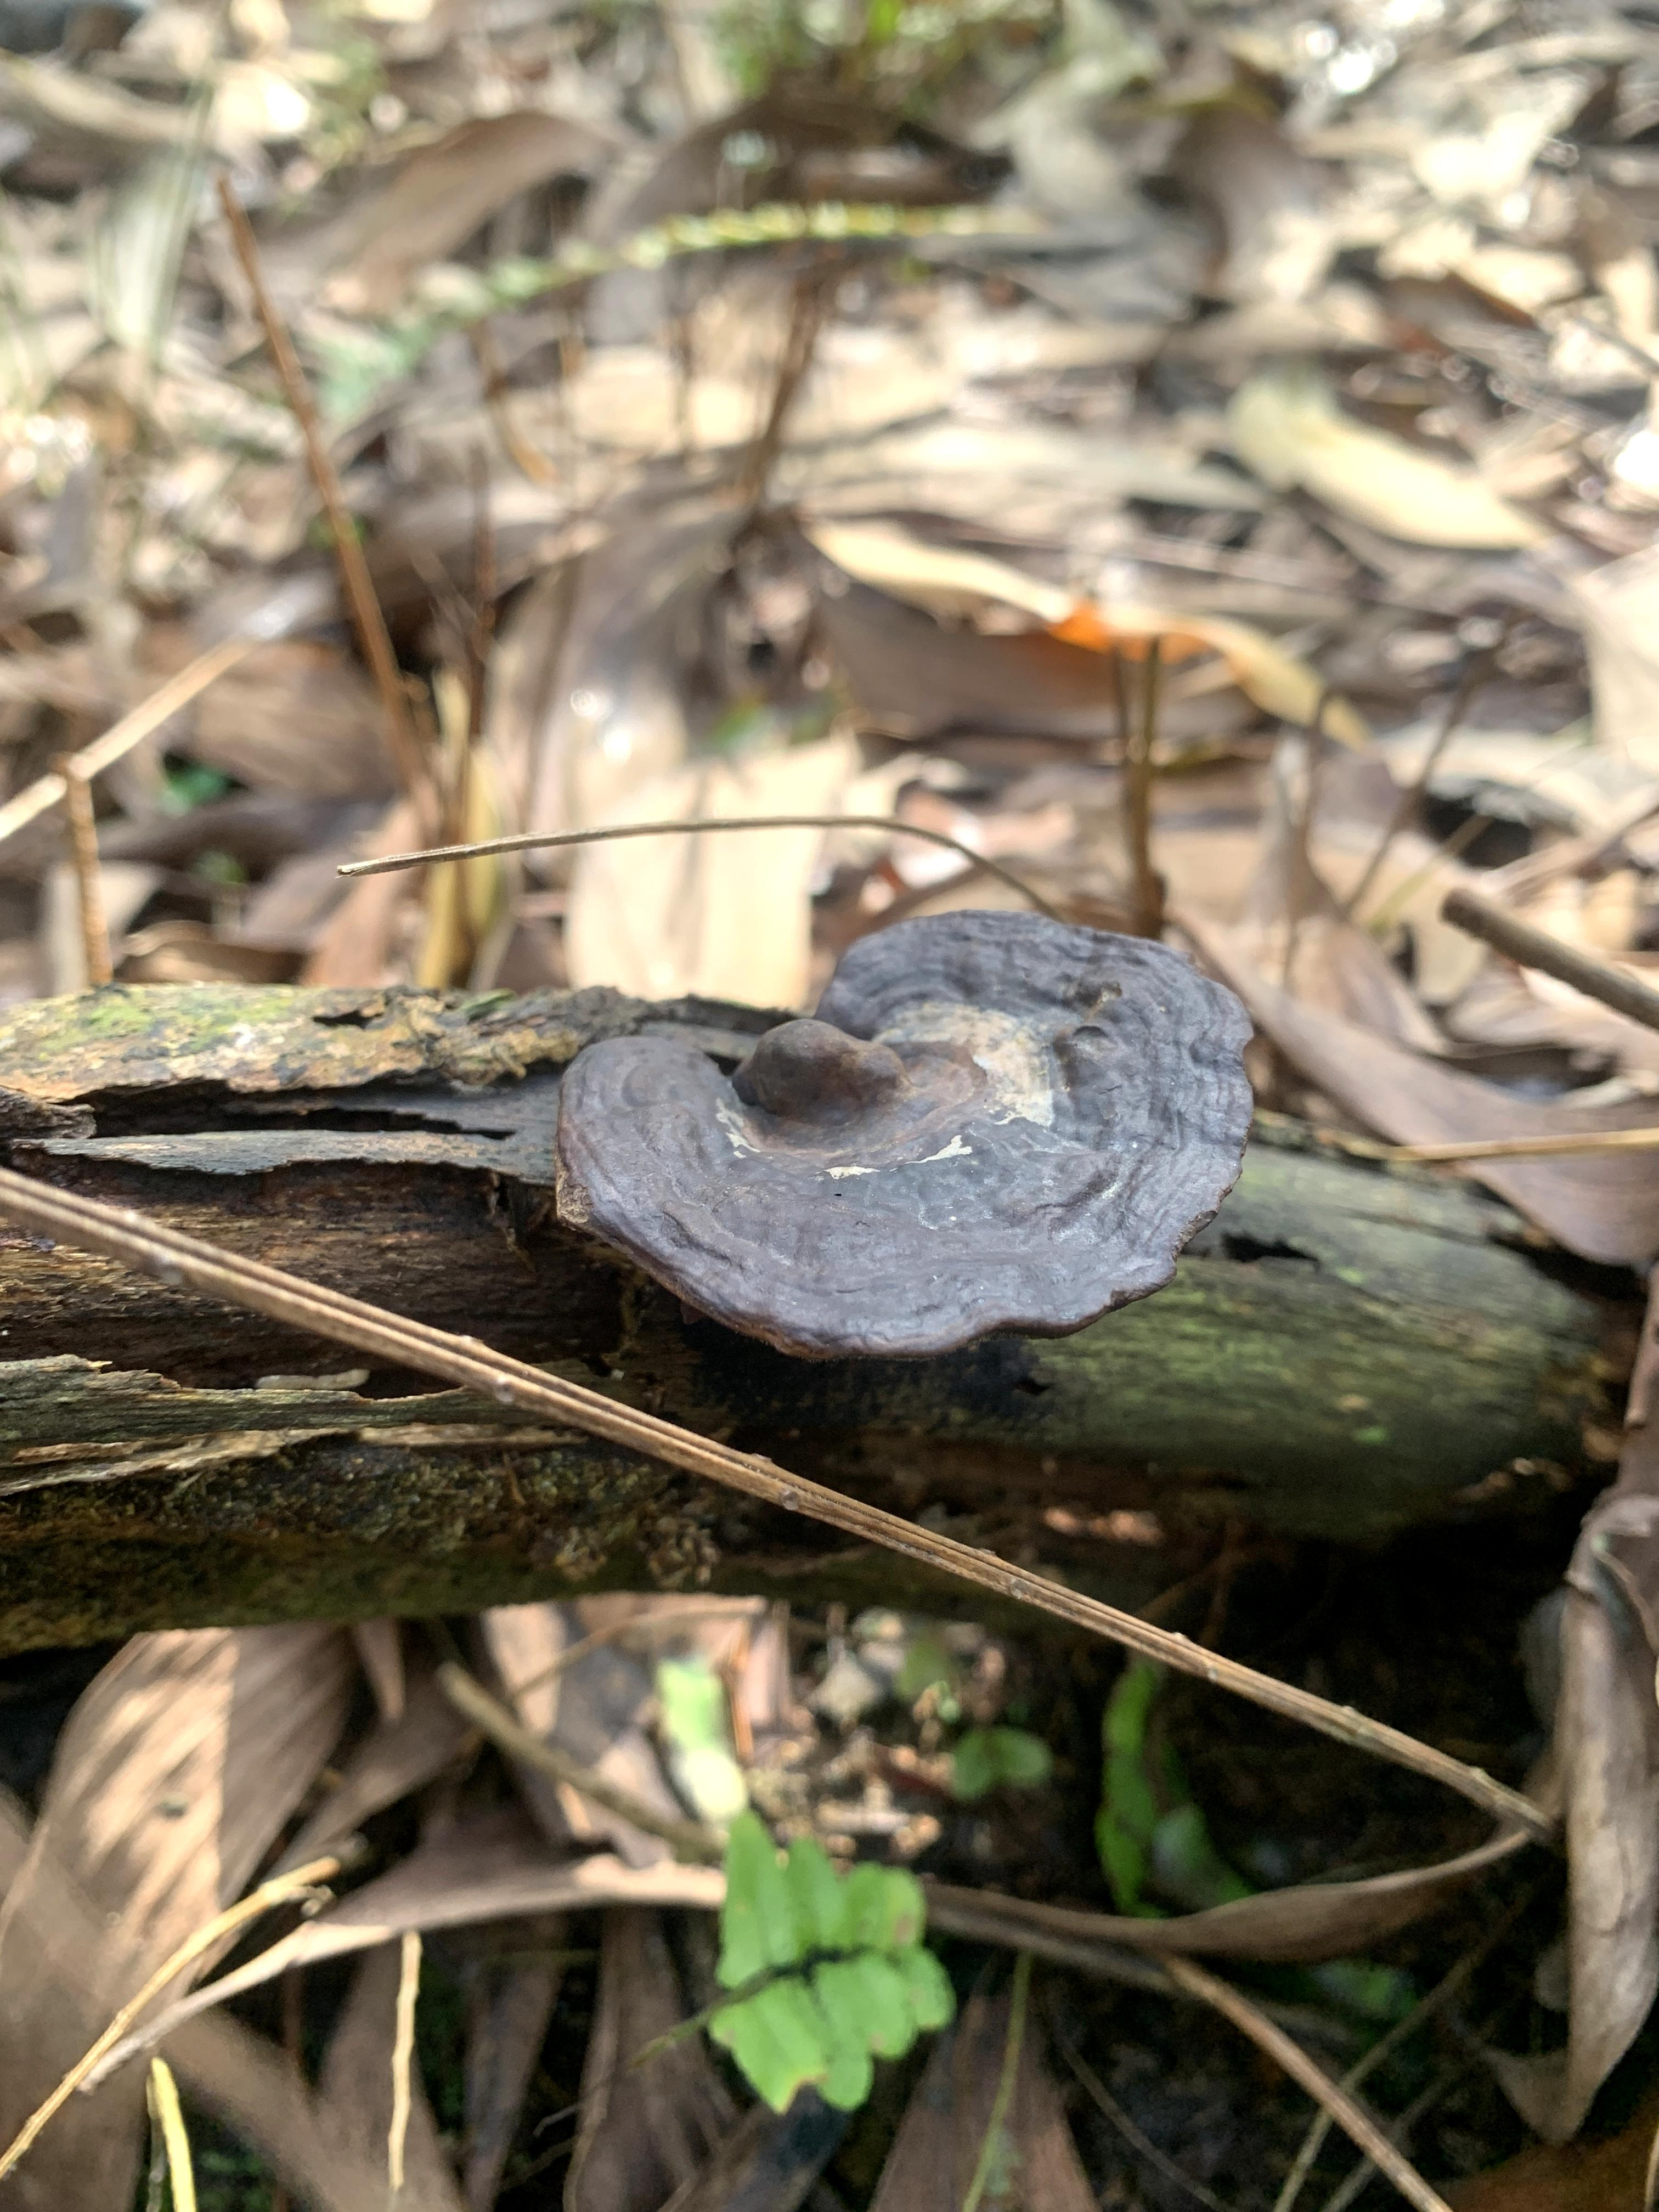Ganoderma - Fruit Body: (594, 918, 1267, 1353)
